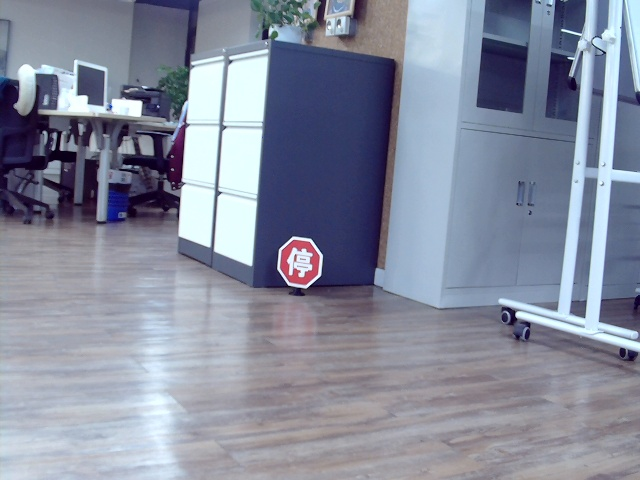stop: (284, 243, 312, 277)
